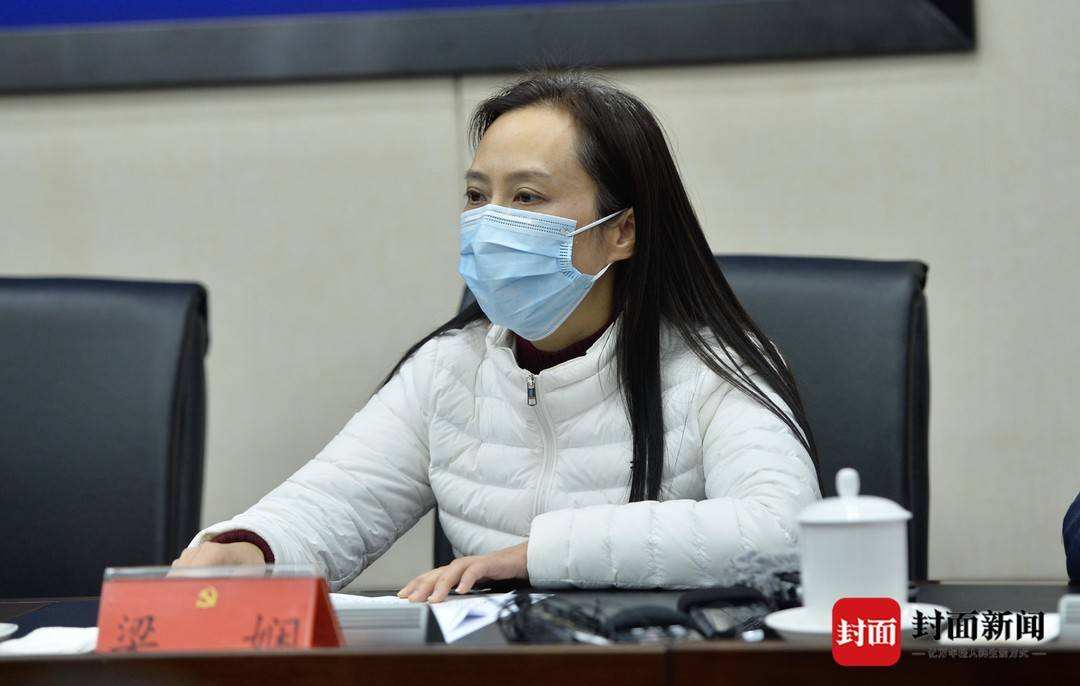mask: (462, 127, 594, 348)
